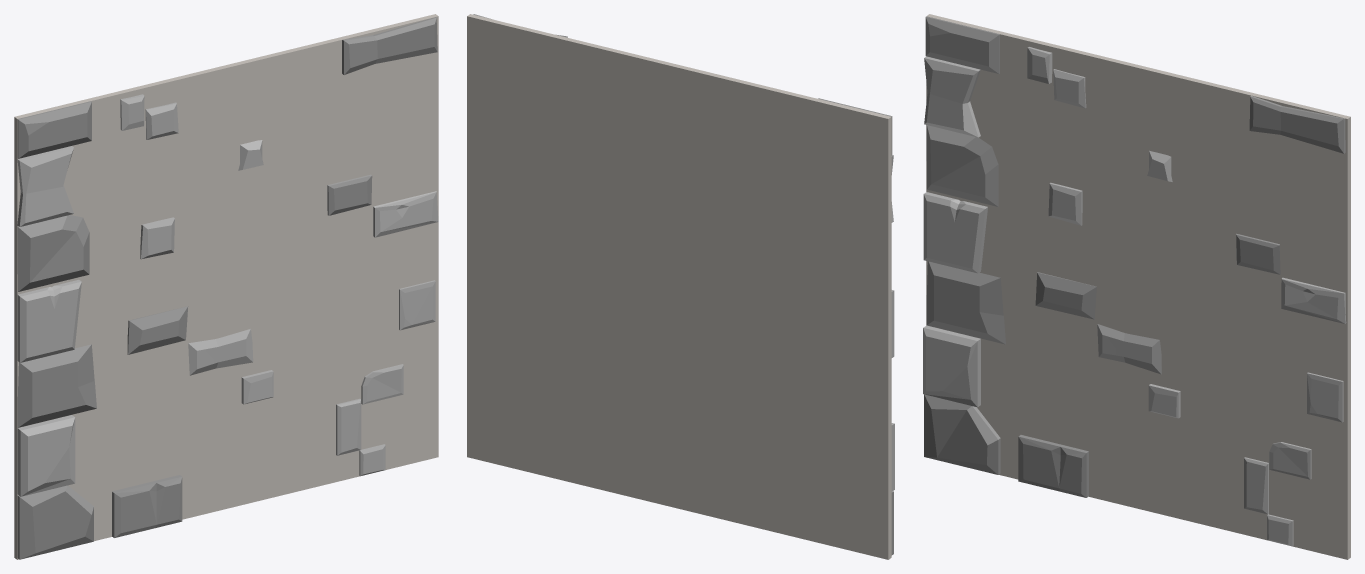
File: _WALL_04_1.fbx
The picture shows the model from 3 angles, left to right: view 1: azimuth 30°, elevation 25°; view 2: azimuth 150°, elevation 25°; view 3: azimuth 330°, elevation 25°; orthographic projection.
Visible parts, largest first — view 1: WALL_04_1; view 2: WALL_04_1; view 3: WALL_04_1.
Part boxes in pixels (box(x1,y1,x2,y2)): WALL_04_1: box(14, 14, 438, 559); WALL_04_1: box(467, 14, 894, 559); WALL_04_1: box(923, 14, 1350, 559).
Bounding box in the file's own units: 300 × 300 × 12.
